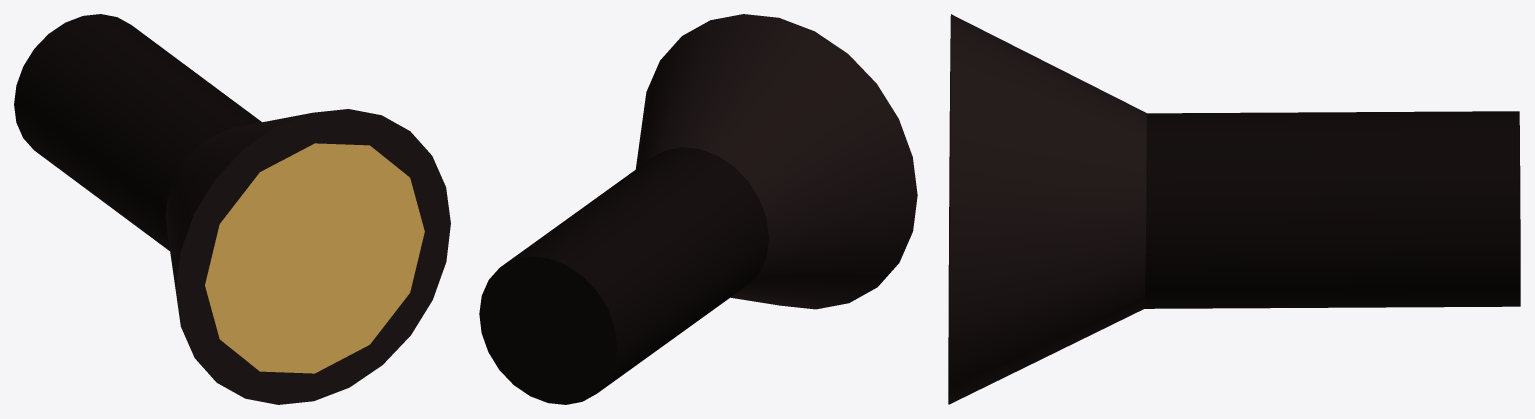
The model's file is flashlight.obj.
3 renders of one model, left to right at view 1: azimuth 30°, elevation 25°; view 2: azimuth 150°, elevation 25°; view 3: azimuth 270°, elevation 25°, orthographic. The views are drawn at different scales.
Visible parts, largest first — view 1: Circle, Cylinder, Cylinder1; view 2: Cylinder1, Cylinder; view 3: Cylinder, Cylinder1.
Part boxes in pixels (x1=…): Circle: x1=205, y1=143, x2=424, y2=373; Cylinder: x1=14, y1=14, x2=261, y2=250; Cylinder1: x1=165, y1=109, x2=450, y2=404; Cylinder1: x1=635, y1=14, x2=917, y2=309; Cylinder: x1=479, y1=147, x2=768, y2=404; Cylinder: x1=1144, y1=111, x2=1520, y2=308; Cylinder1: x1=948, y1=14, x2=1146, y2=404.
Bounding box in the file's own units: 2 × 2 × 2.93.
